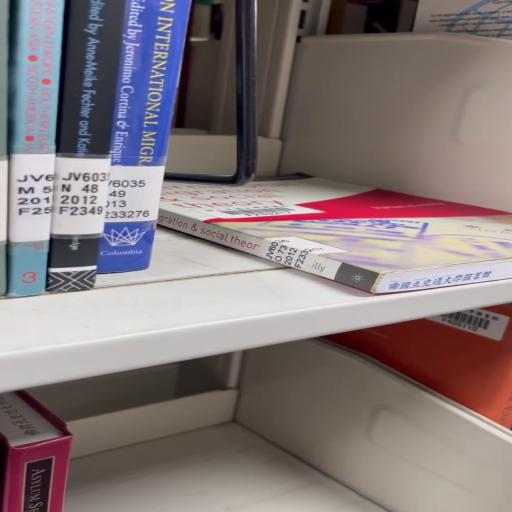flat: (158, 176, 512, 295)
